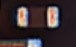COMP: (11, 3, 62, 31)
GAP: (17, 19, 43, 47)
